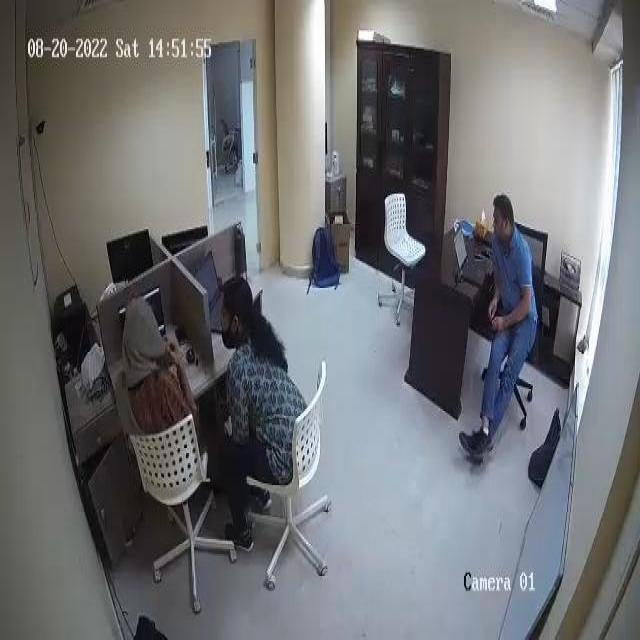bare_hand: (164, 332, 187, 376), (491, 308, 511, 337), (484, 293, 499, 322)
